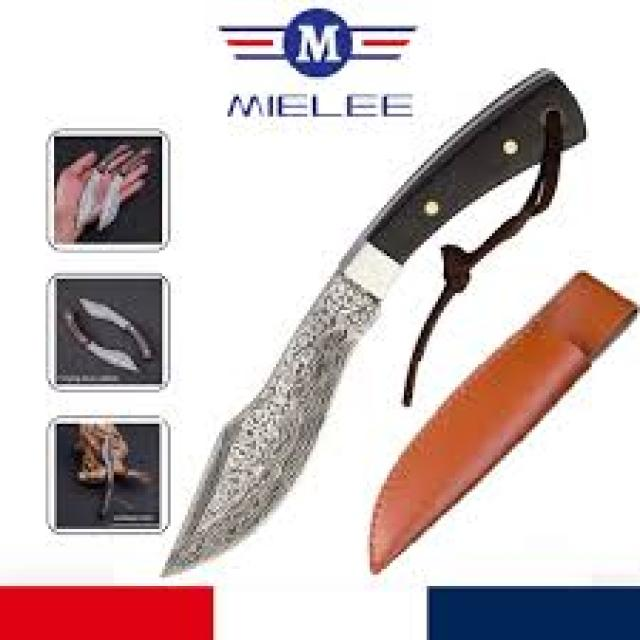Knife: (162, 68, 586, 575)
